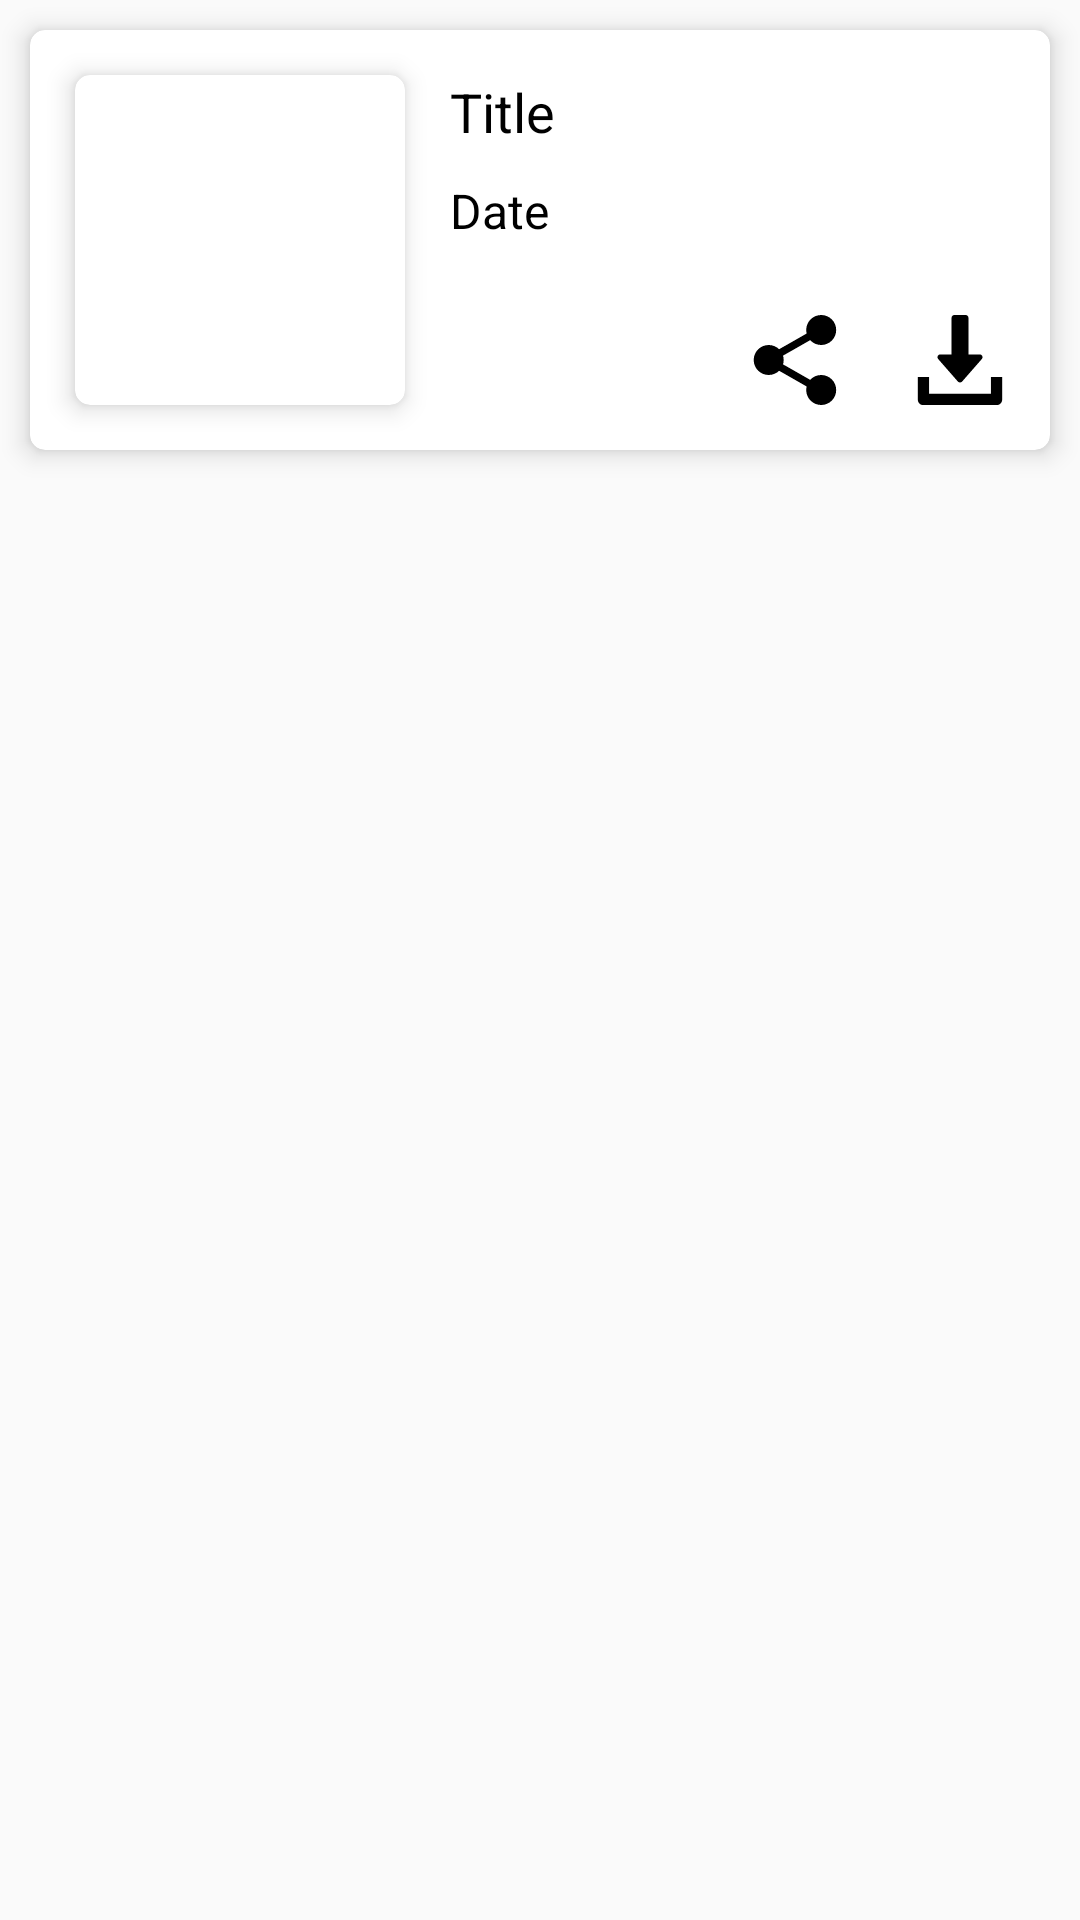

Named icons in this screenshot (1080 × 1920) and their centers, (x=x, y=y):
download: (x=960, y=360)
share: (x=795, y=360)
